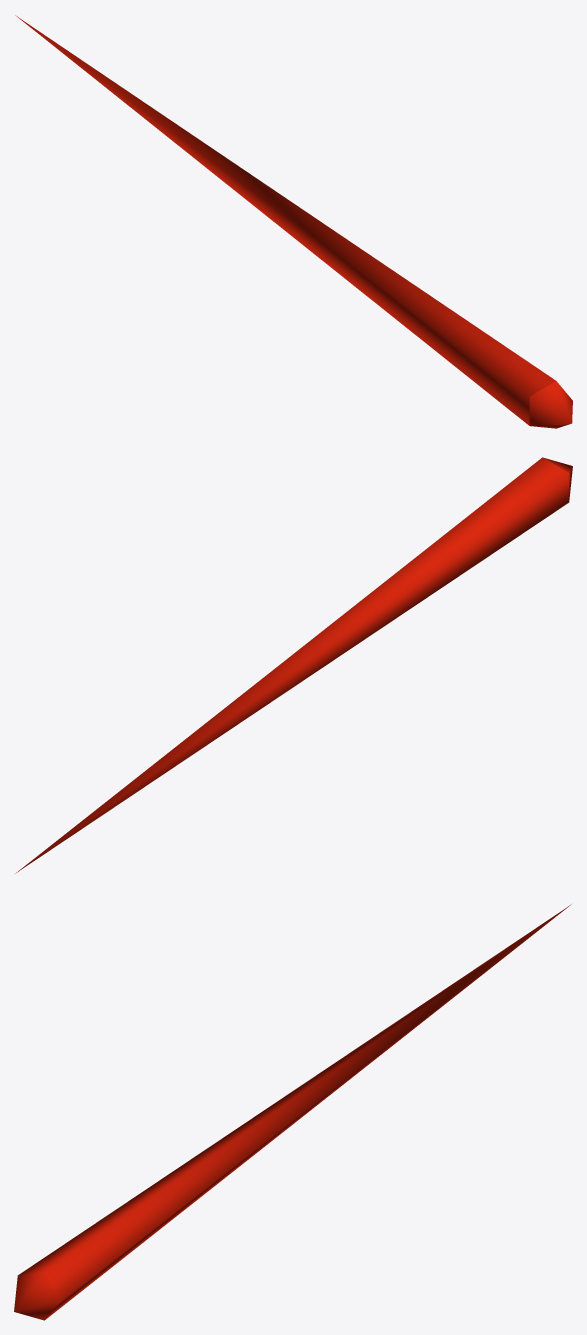
Rendered from FX_Bullet_Mesh_01.fbx.
3 views of the same model, one above another, from view 1: azimuth 30°, elevation 25°; view 2: azimuth 150°, elevation 25°; view 3: azimuth 330°, elevation 25° (orthographic).
Parts seen in each view (by area): view 1: FX_Bullet_Mesh_01; view 2: FX_Bullet_Mesh_01; view 3: FX_Bullet_Mesh_01.
Part boxes in pixels (bbox=[...]): FX_Bullet_Mesh_01: bbox=[15, 15, 572, 428]; FX_Bullet_Mesh_01: bbox=[15, 457, 572, 873]; FX_Bullet_Mesh_01: bbox=[14, 904, 571, 1320].
Size of the model in its own units: 12.79 by 13.45 by 285.
